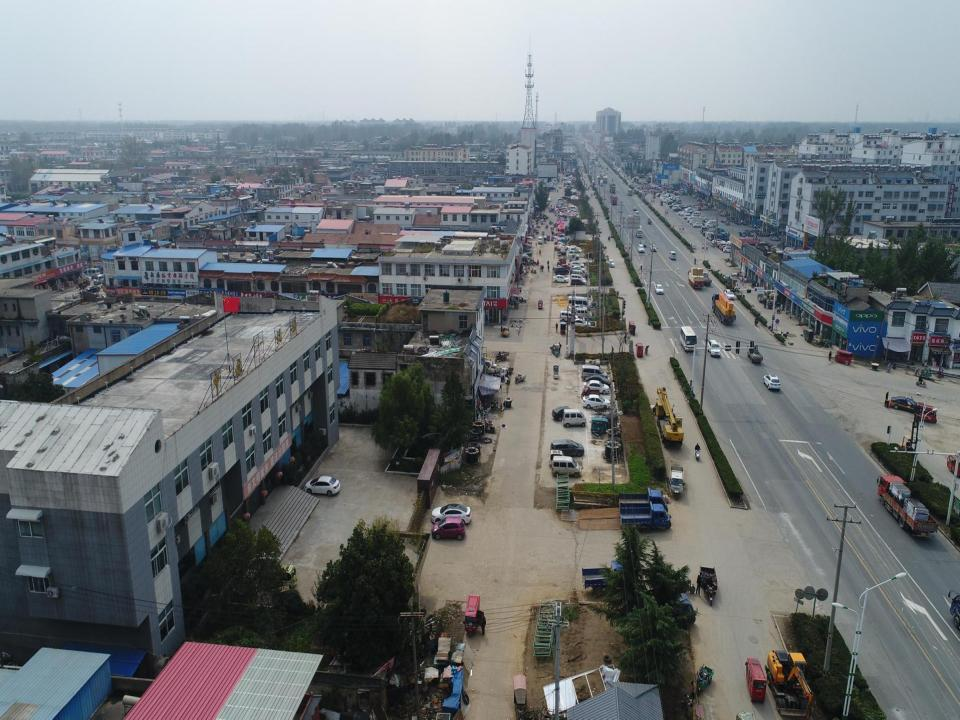bus: (680, 326, 698, 351), (627, 188, 633, 196)
car: (430, 516, 466, 543), (431, 504, 470, 526), (303, 476, 342, 496), (890, 396, 918, 416), (551, 405, 577, 424), (582, 394, 611, 411), (584, 373, 611, 390), (582, 380, 610, 395), (762, 373, 780, 391), (706, 339, 721, 357), (571, 318, 592, 330), (559, 311, 579, 323), (570, 273, 586, 284), (551, 275, 569, 284), (572, 304, 589, 313), (569, 261, 586, 270), (724, 287, 734, 301), (571, 278, 586, 287), (554, 267, 570, 275), (571, 266, 586, 274), (559, 264, 573, 272), (568, 246, 582, 254), (556, 244, 570, 252), (654, 283, 663, 295), (567, 306, 580, 314), (568, 245, 581, 253), (554, 245, 567, 253), (723, 245, 734, 254), (702, 230, 714, 238), (688, 218, 700, 226), (720, 244, 732, 251), (607, 258, 615, 268), (638, 244, 646, 254), (704, 221, 715, 228), (692, 221, 702, 228), (682, 214, 693, 220), (686, 216, 696, 222), (650, 244, 657, 252), (680, 210, 688, 217), (689, 209, 698, 215), (560, 247, 566, 255), (640, 240, 646, 248), (678, 210, 686, 216), (684, 207, 692, 213), (684, 204, 692, 210), (674, 207, 683, 212), (634, 211, 640, 217), (627, 215, 633, 221), (597, 227, 602, 234), (668, 204, 676, 208), (632, 206, 637, 211), (610, 232, 614, 238)
truck: (875, 472, 940, 539), (710, 291, 736, 323), (686, 266, 704, 288), (746, 343, 763, 362), (710, 231, 730, 242), (701, 270, 712, 286), (691, 216, 706, 226), (634, 224, 644, 238), (608, 194, 618, 207), (756, 291, 766, 303), (608, 181, 616, 194)
van: (548, 438, 586, 458), (548, 455, 580, 478), (561, 408, 587, 428), (580, 364, 608, 381), (568, 295, 590, 309), (575, 308, 590, 319), (710, 237, 726, 247), (572, 269, 585, 279), (570, 266, 582, 276), (719, 241, 731, 250), (707, 231, 717, 240), (704, 231, 714, 239), (700, 225, 710, 233), (668, 251, 676, 260), (717, 242, 729, 248), (537, 236, 543, 244), (670, 202, 678, 208), (692, 211, 700, 217), (671, 205, 680, 210), (687, 208, 694, 212)
